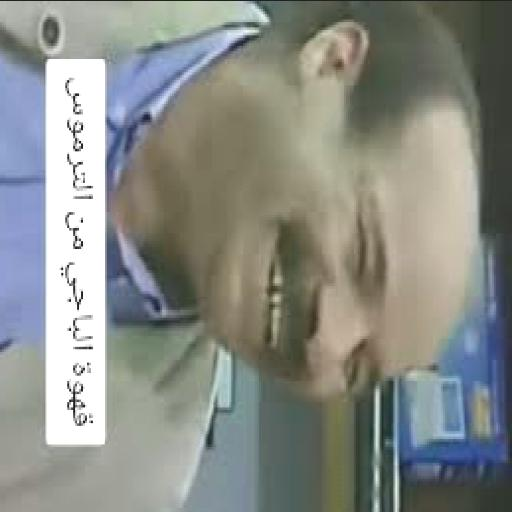beji_matrix: (196, 0, 480, 396)
